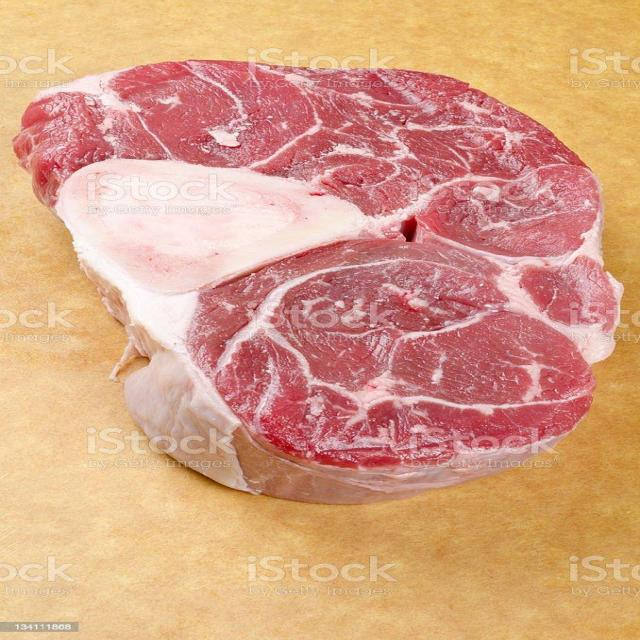beef: (31, 93, 624, 304)
